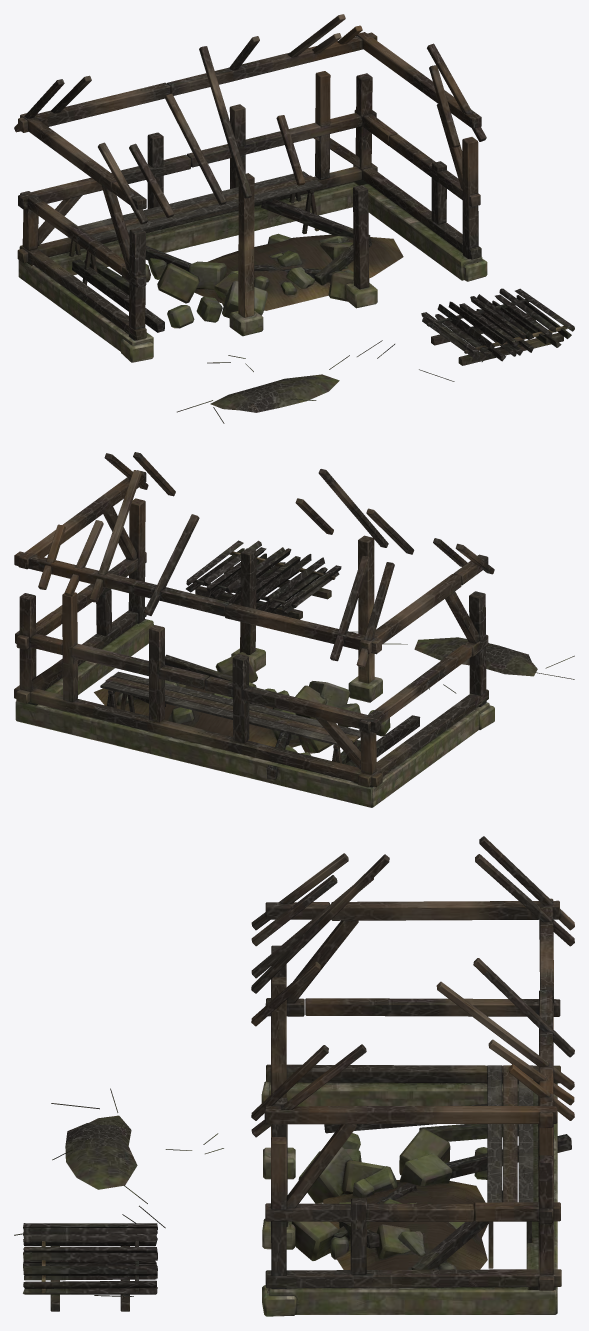
File: fletcher_ruin.glb
3 views of the same model, one above another, from view 1: azimuth 30°, elevation 25°; view 2: azimuth 150°, elevation 25°; view 3: azimuth 270°, elevation 25° (orthographic). The views are drawn at different scales.
Parts seen in each view (by area): view 1: fletcher_ruin_LOD0; view 2: fletcher_ruin_LOD0; view 3: fletcher_ruin_LOD0.
Part boxes in pixels (bbox=[...]): fletcher_ruin_LOD0: bbox=[14, 14, 574, 423]; fletcher_ruin_LOD0: bbox=[14, 452, 574, 807]; fletcher_ruin_LOD0: bbox=[14, 836, 574, 1316].
Size of what is drawn, in the model's own units: 6.94 by 4.74 by 7.21.
Materials: 1 (1 with a texture image).
